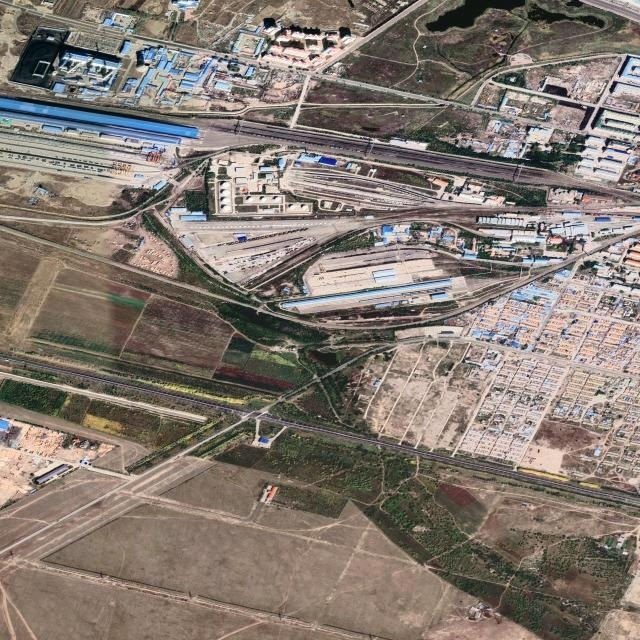coal_fired_power_plant: (8, 23, 255, 108)
